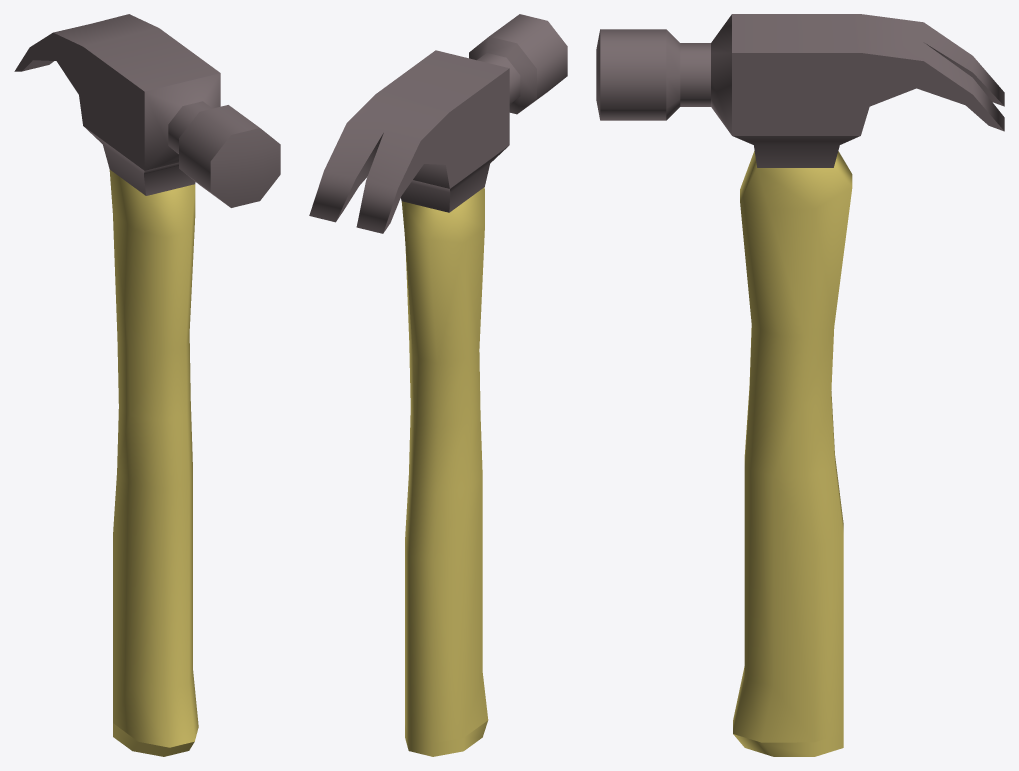
Rendered from hammerlod3.obj.
The picture shows the model from 3 angles, left to right: view 1: azimuth 30°, elevation 25°; view 2: azimuth 150°, elevation 25°; view 3: azimuth 270°, elevation 25°; orthographic projection. The views are drawn at different scales.
Visible parts, largest first — view 1: mesh01; view 2: mesh01; view 3: mesh01.
Part boxes in pixels (x1=…): mesh01: x1=14, y1=14, x2=280, y2=756; mesh01: x1=309, y1=14, x2=567, y2=756; mesh01: x1=596, y1=14, x2=1004, y2=756.
Size of the model in its own units: 50.29 by 427 by 223.
